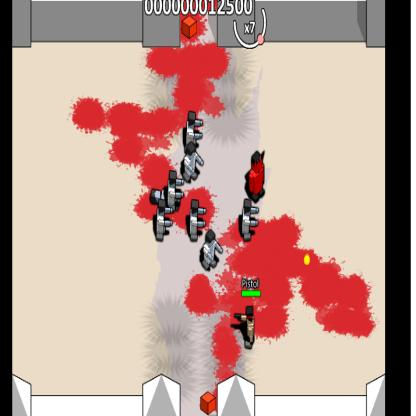agent: (242, 305, 257, 349)
ball: (303, 255, 310, 268)
boss: (249, 150, 266, 203)
jombie: (184, 110, 202, 147), (202, 229, 217, 272), (182, 142, 198, 181), (188, 198, 202, 242), (241, 198, 254, 243), (155, 197, 168, 242), (167, 170, 180, 210)
